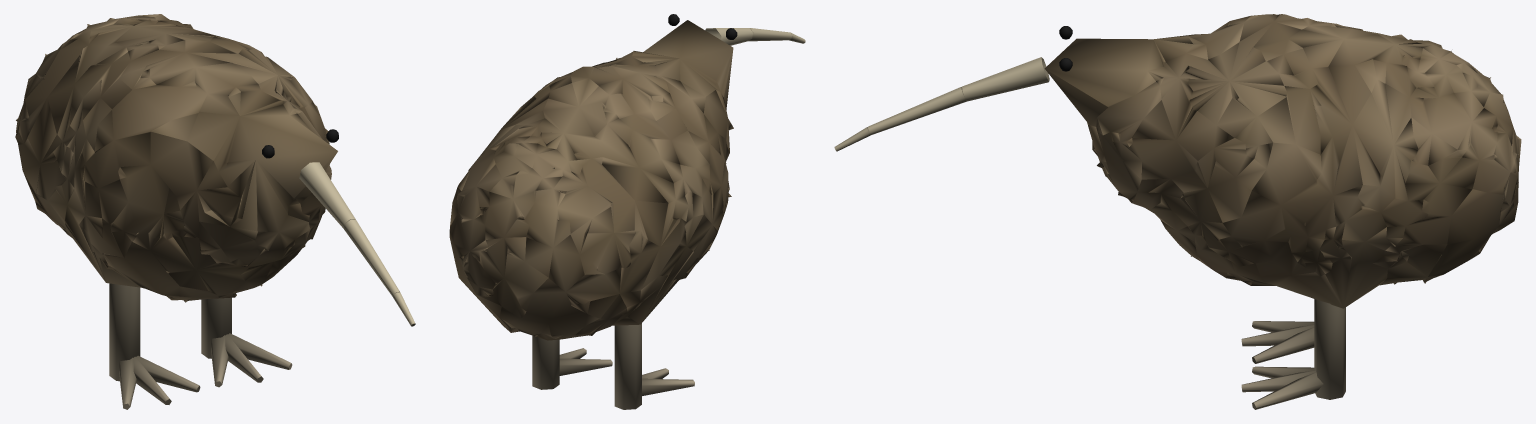
Rendered from kiwi.glb.
3 views of the same model, side by side, from view 1: azimuth 30°, elevation 25°; view 2: azimuth 150°, elevation 25°; view 3: azimuth 270°, elevation 25° (orthographic). The views are drawn at different scales.
Visible parts, largest first — view 1: lack; view 2: lack; view 3: lack.
Part boxes in pixels (bbox=[...]): lack: bbox=[15, 14, 415, 409]; lack: bbox=[449, 14, 805, 409]; lack: bbox=[834, 14, 1521, 409].
Size of the model in its own units: 0.1995 by 0.2787 by 0.5074.
